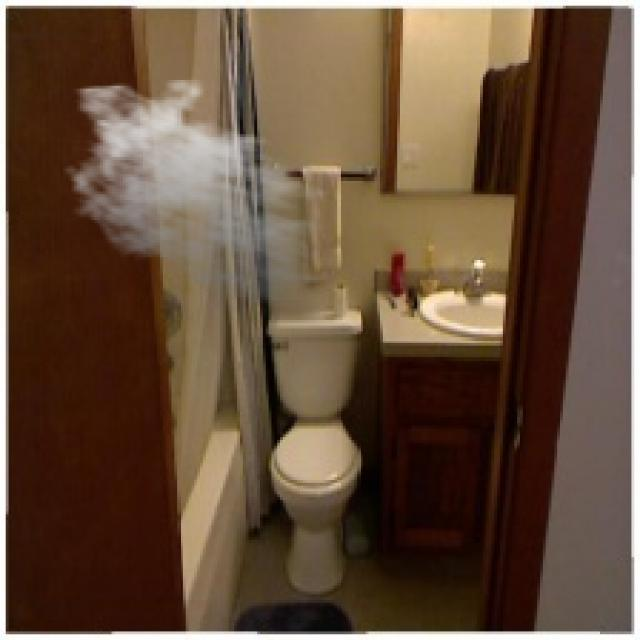Smoke: (60, 77, 343, 306)
